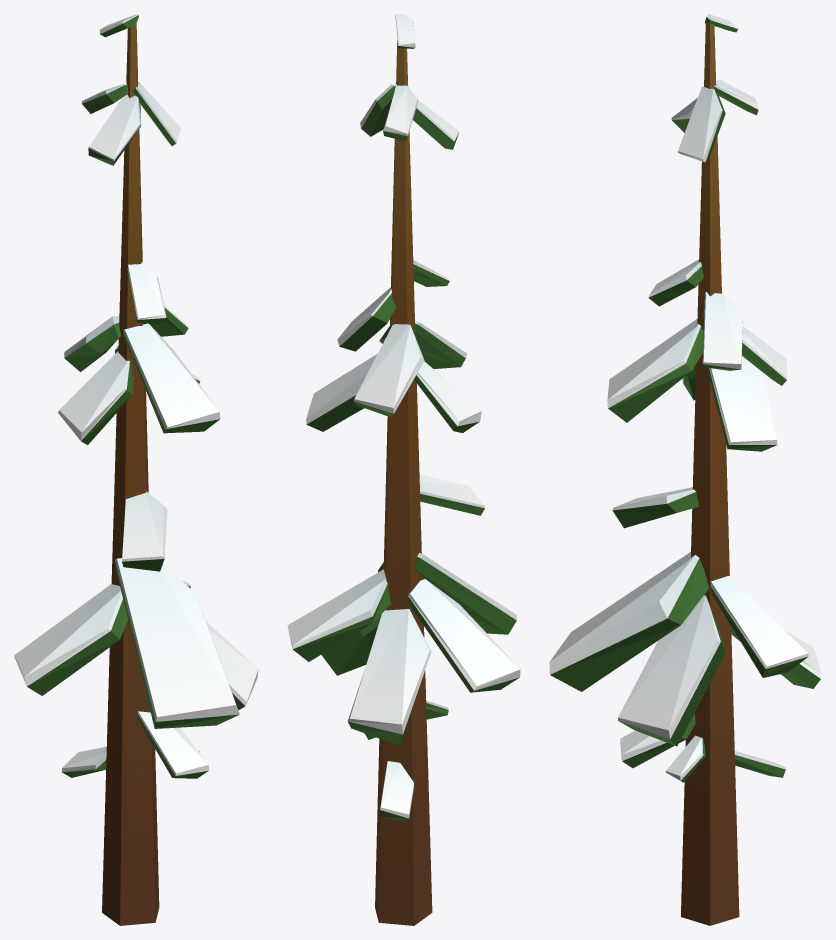
The model's file is HX-shu2.FBX.
The picture shows the model from 3 angles, left to right: view 1: azimuth 30°, elevation 25°; view 2: azimuth 150°, elevation 25°; view 3: azimuth 270°, elevation 25°; orthographic projection.
Visible parts, largest first — view 1: shu2; view 2: shu2; view 3: shu2.
Part boxes in pixels (left/top/right/bottom): shu2: left=14, top=14, right=258, bottom=925; shu2: left=287, top=14, right=520, bottom=925; shu2: left=549, top=14, right=821, bottom=925.
Size of the model in its own units: 551 by 2165 by 596.
